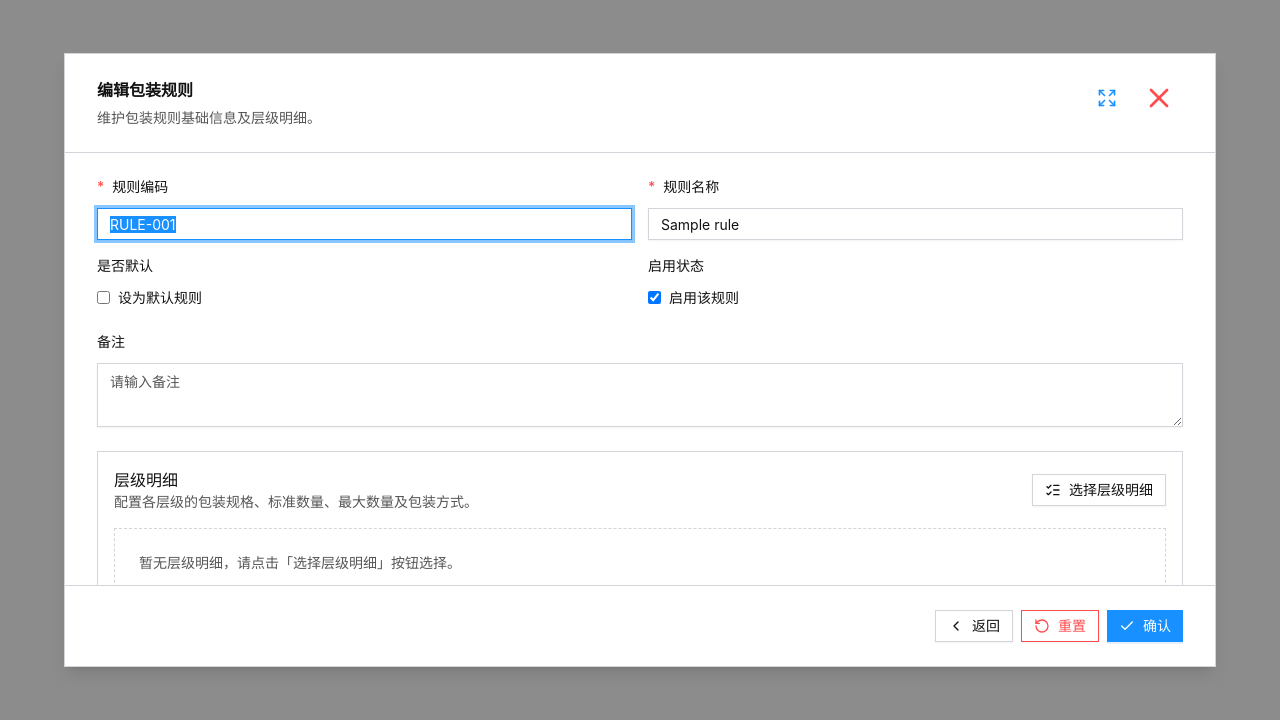
Test: PackagingRuleFormDialog › opens the level dialog directly when no detail rows exist
Step 1. Click the button with test id "packaging-rule-form-select-details" → (1099, 490), box [1032,474,1166,506]
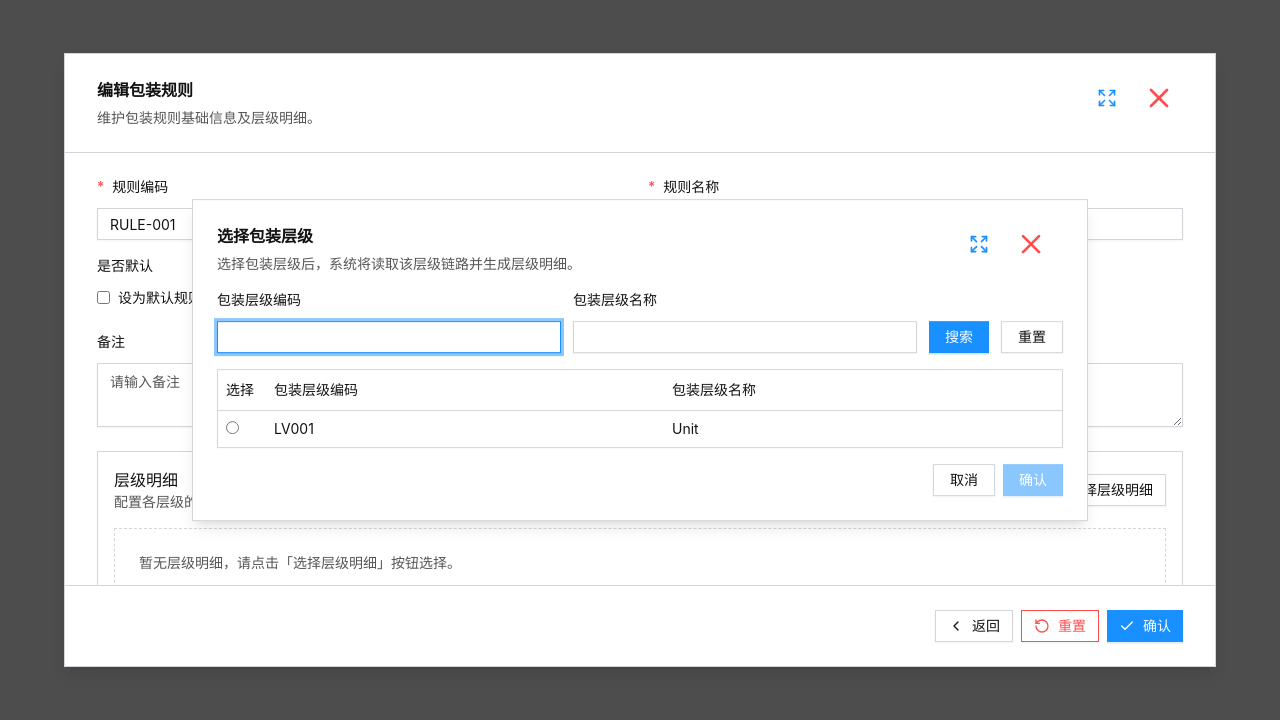
Result: the dialog with test id "packaging-rule-level-dialog" is shown at [192,199,1088,521]
